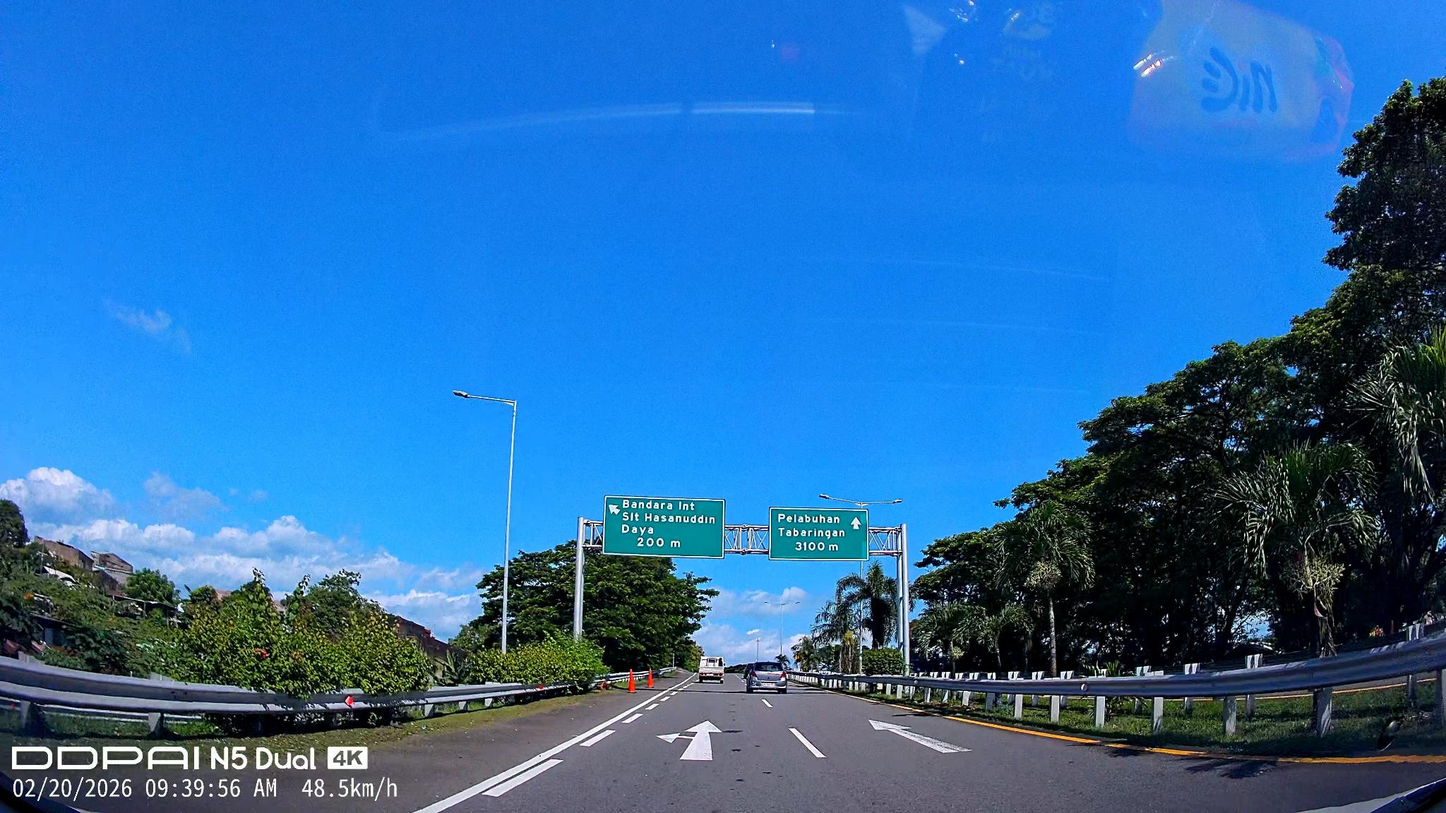rambu_teks: (603, 495, 725, 559), (769, 506, 869, 561)
